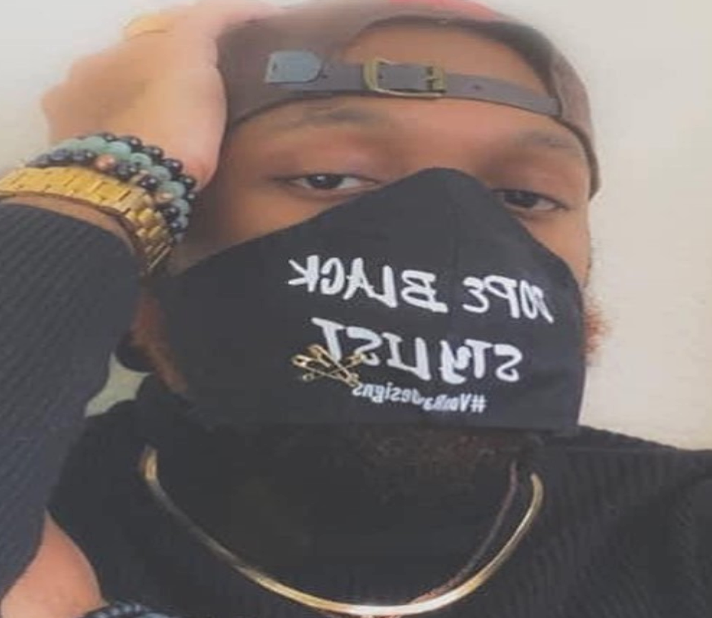mask_weared_incorrect: (99, 0, 625, 504)
